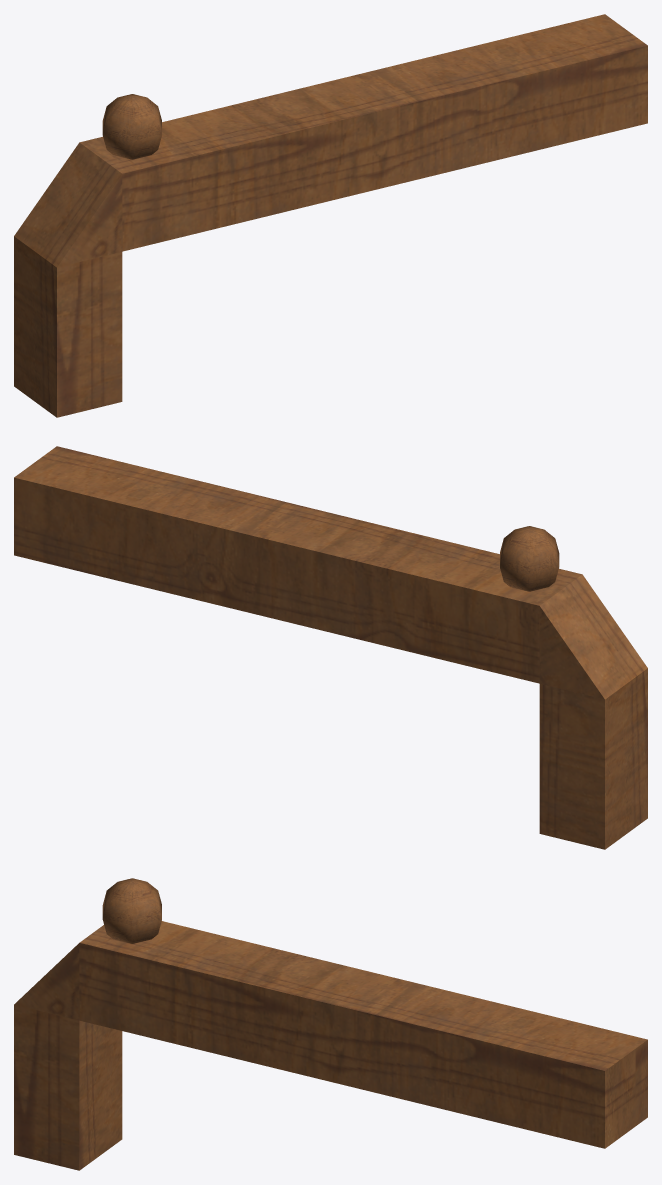
The model's file is WoodBeam03.glb.
3 renders of one model, top to bottom at view 1: azimuth 30°, elevation 25°; view 2: azimuth 150°, elevation 25°; view 3: azimuth 330°, elevation 25°, orthographic.
Visible parts, largest first — view 1: WoodBeam03; view 2: WoodBeam03; view 3: WoodBeam03.
Boxes of the visible parts, x1=… form: WoodBeam03: x1=14, y1=14, x2=647, y2=417; WoodBeam03: x1=14, y1=446, x2=647, y2=849; WoodBeam03: x1=14, y1=878, x2=647, y2=1170.
Bounding box in the file's own units: 3.06 × 1.39 × 0.3855.
Materials: 1 (1 with a texture image).
